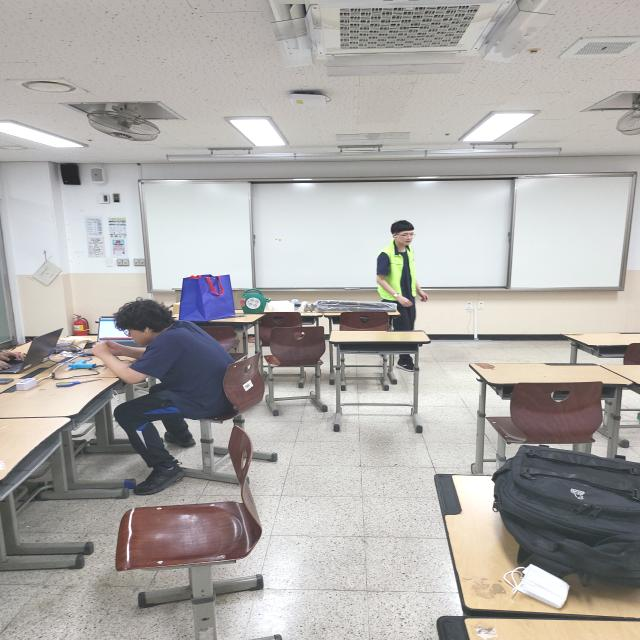weston_spy: (375, 250, 419, 302)
